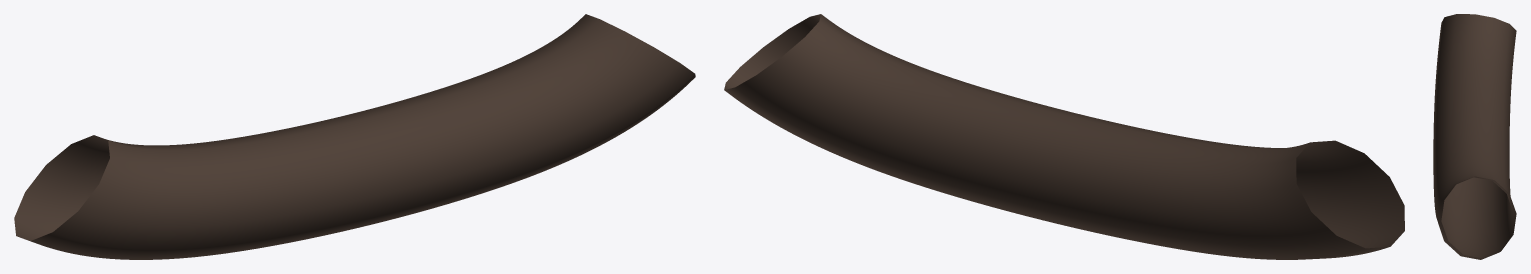
Rendered from dirt_tunnel.glb.
3 renders of one model, left to right at view 1: azimuth 30°, elevation 25°; view 2: azimuth 150°, elevation 25°; view 3: azimuth 270°, elevation 25°, orthographic. The views are drawn at different scales.
Visible parts, largest first — view 1: NurbsCurve; view 2: NurbsCurve; view 3: NurbsCurve.
Boxes of the visible parts, x1,y1,x2,y2 form: NurbsCurve: [14, 14, 695, 259]; NurbsCurve: [724, 14, 1404, 259]; NurbsCurve: [1433, 14, 1516, 259].
Size of the model in its own units: 4.65 by 0.9361 by 0.7419.
